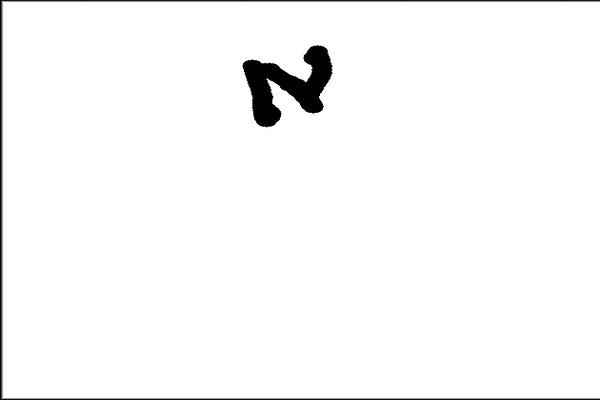N: (236, 42, 339, 127)
